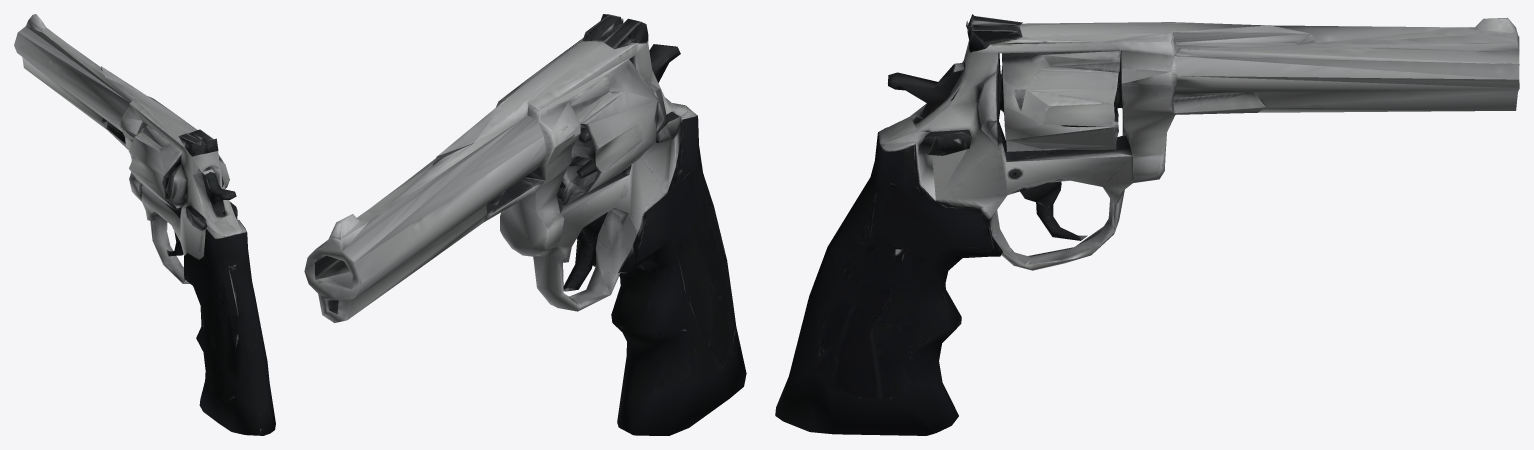
The model's file is pi_magnus.lod1.glb.
3 renders of one model, left to right at view 1: azimuth 30°, elevation 25°; view 2: azimuth 150°, elevation 25°; view 3: azimuth 270°, elevation 25°, orthographic. The views are drawn at different scales.
Parts seen in each view (by area): view 1: pi_magnus; view 2: pi_magnus; view 3: pi_magnus.
Part boxes in pixels (box(x1,y1,x2,y2)): pi_magnus: box(14, 14, 275, 435); pi_magnus: box(304, 14, 746, 435); pi_magnus: box(775, 14, 1519, 435).
Size of the model in its own units: 0.0457 by 0.1792 by 0.3.
1 material, 1 textured.
